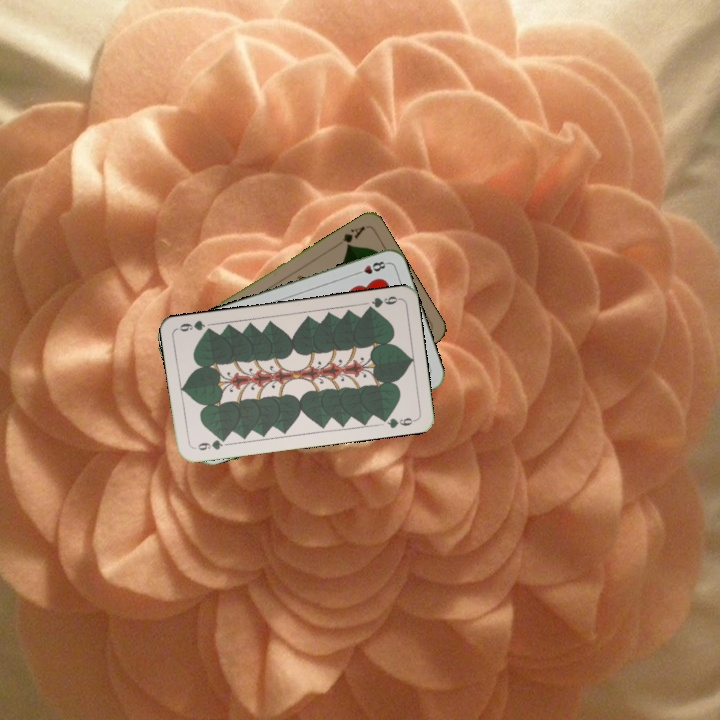G9: (362, 292, 402, 313), (191, 434, 229, 453)
GA: (338, 222, 368, 250)
H8: (351, 257, 390, 278)
